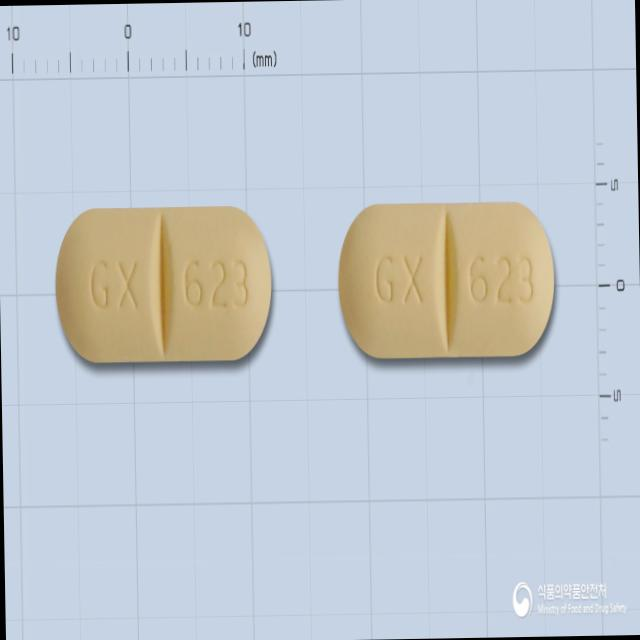Ziagen Tab: (54, 204, 274, 366), (336, 202, 558, 361)
